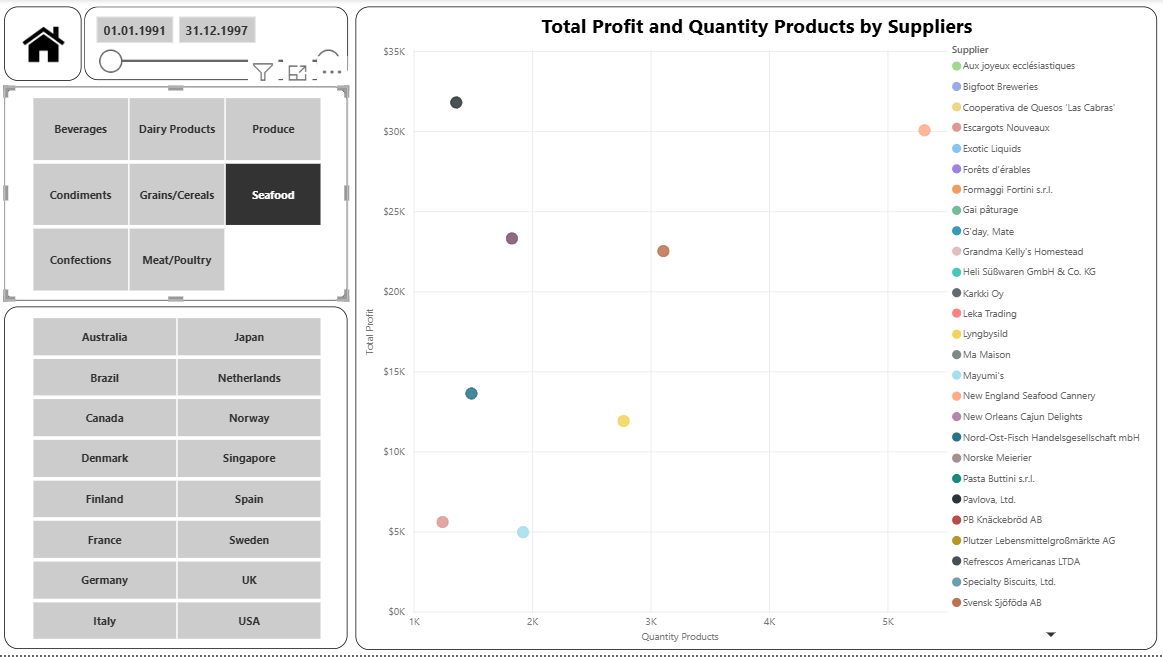

This screenshot's page, from the dashboard's own definition file:
{"tool":"powerbi","page":{"name":"Suppliers Overview","canvas":[1280,720],"ordinal":7},"visuals":[{"type":"slicer","fields":{"Values":["Calendar.Date"]},"box":[94,7.9,290,81.2],"z":0},{"type":"slicer","fields":{"Values":["categories_dir.category_name"]},"box":[6.9,96,377.1,235.2],"z":1000},{"type":"scatterChart","title":"Total Profit and Quantity Products by Suppliers","fields":{"Series":["suppliers_dir.company_name"],"X":["NW_Orders_Details_Total.Sum_Quantity"],"Y":["NW_Orders_Details_Total.Total Profit"]},"box":[392.9,7.9,879.8,706.6],"z":2000},{"type":"slicer","fields":{"Values":["suppliers_dir.country"]},"box":[6.9,338.2,377.1,376.2],"z":3000},{"type":"image","box":[6.9,7.8,84.8,81.3],"z":4000}]}

Visuals, with their boxes in screenshot pixels (x1, y1, x2, y2), scaled from the page's 1280x720 canvas onto the 1163x657 screenshot:
slicer - Calendar.Date: [x1=85, y1=7, x2=349, y2=81]
slicer - categories_dir.category_name: [x1=6, y1=88, x2=349, y2=302]
"Total Profit and Quantity Products by Suppliers" scatterChart: [x1=357, y1=7, x2=1156, y2=652]
slicer - suppliers_dir.country: [x1=6, y1=309, x2=349, y2=652]
image: [x1=6, y1=7, x2=83, y2=81]
